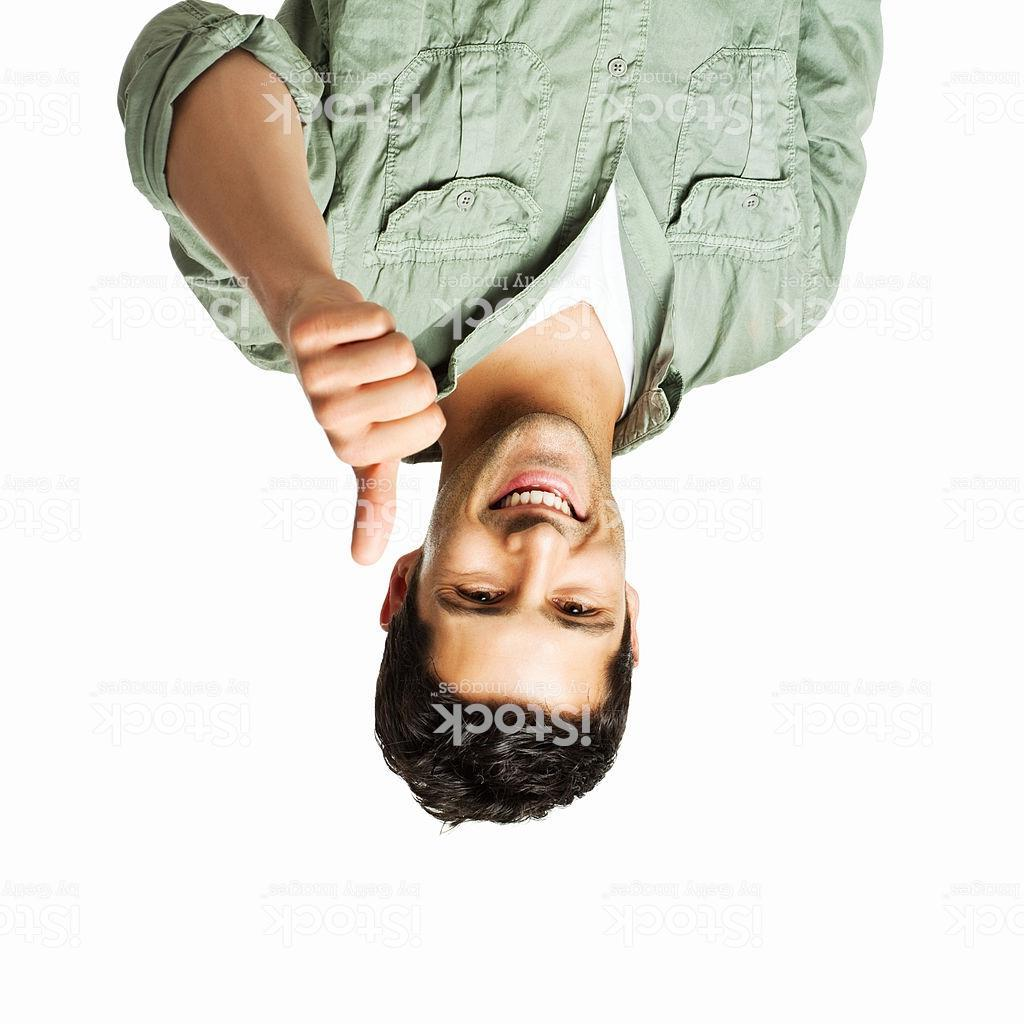thumbsdown: (290, 296, 448, 567)
